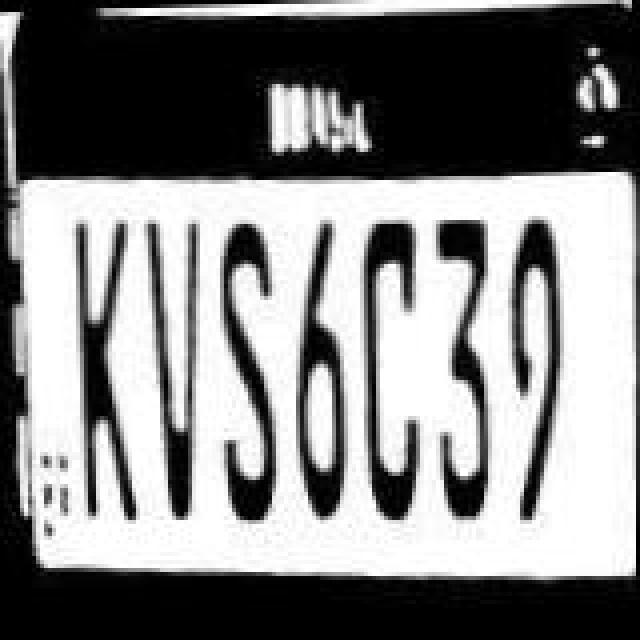3: (418, 206, 494, 514)
6: (282, 212, 350, 508)
9: (494, 200, 570, 520)
C: (340, 210, 428, 514)
K: (54, 218, 138, 518)
S: (198, 210, 282, 514)
V: (122, 220, 198, 512)
